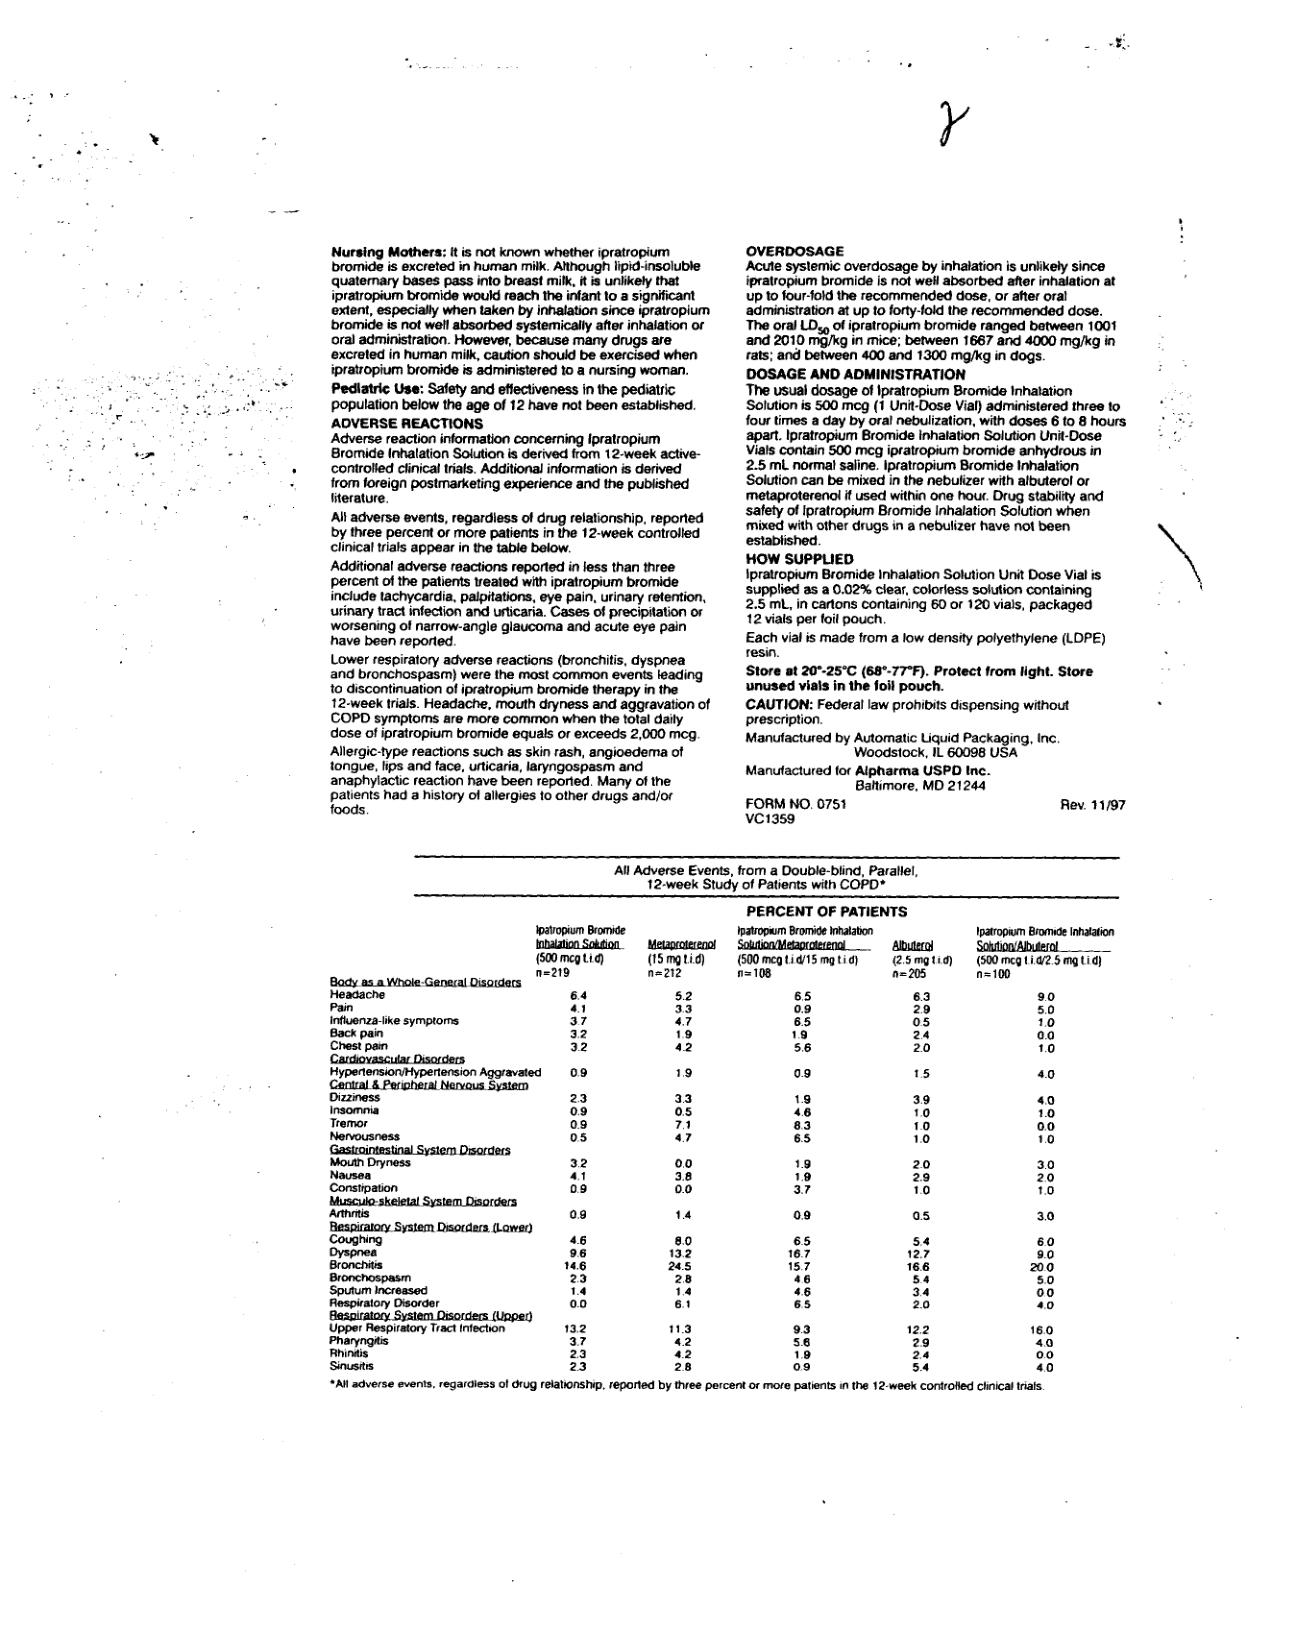nolines: (327, 925, 1117, 1376)
